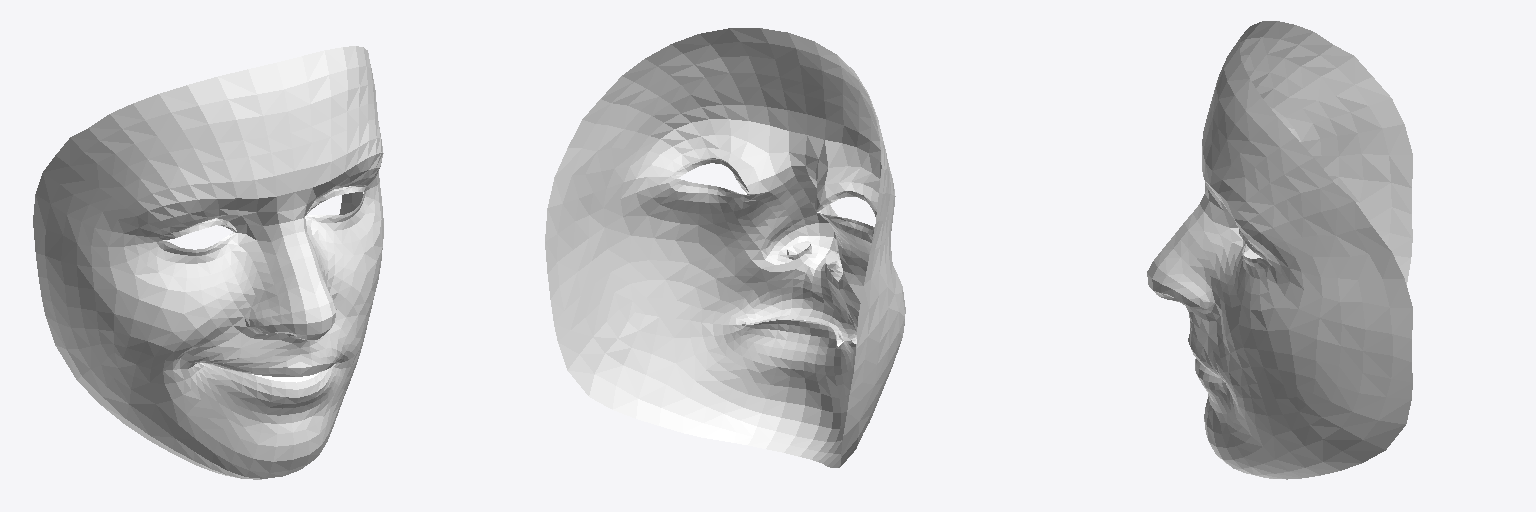
File: mouthSmile_R.obj
3 renders of one model, left to right at view 1: azimuth 30°, elevation 25°; view 2: azimuth 150°, elevation 25°; view 3: azimuth 270°, elevation 25°, orthographic.
Visible parts, largest first — view 1: default; view 2: default; view 3: default.
Part boxes in pixels (x1,y1,x2,y2): default: (33, 46, 383, 479); default: (545, 28, 905, 467); default: (1147, 21, 1412, 479).
Bounding box in the file's own units: 0.1447 × 0.1822 × 0.1055.